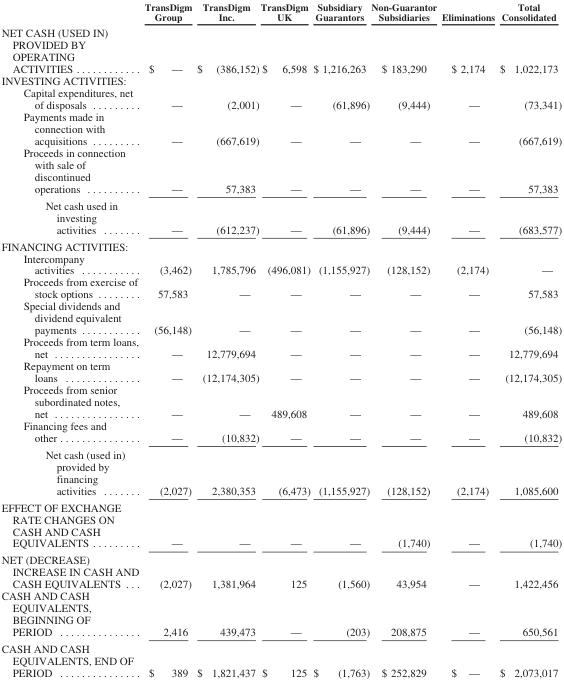table: (0, 0, 561, 678)
table column: (0, 0, 141, 678), (369, 0, 438, 678), (193, 0, 259, 678), (496, 0, 561, 678), (311, 0, 369, 678), (438, 0, 496, 678), (141, 0, 193, 678), (259, 0, 311, 678)
table column header: (0, 0, 561, 24)
table projected row header: (0, 237, 561, 251), (0, 74, 561, 86)
table row: (0, 445, 561, 498), (0, 498, 561, 551), (0, 24, 561, 74), (0, 146, 561, 196), (0, 589, 561, 639), (0, 196, 561, 237), (0, 639, 561, 678), (0, 551, 561, 589), (0, 110, 561, 146), (0, 299, 561, 335), (0, 383, 561, 419), (0, 419, 561, 445), (0, 0, 561, 24), (0, 86, 561, 110), (0, 251, 561, 275), (0, 275, 561, 299), (0, 335, 561, 359), (0, 359, 561, 383), (0, 237, 561, 251), (0, 74, 561, 86)
